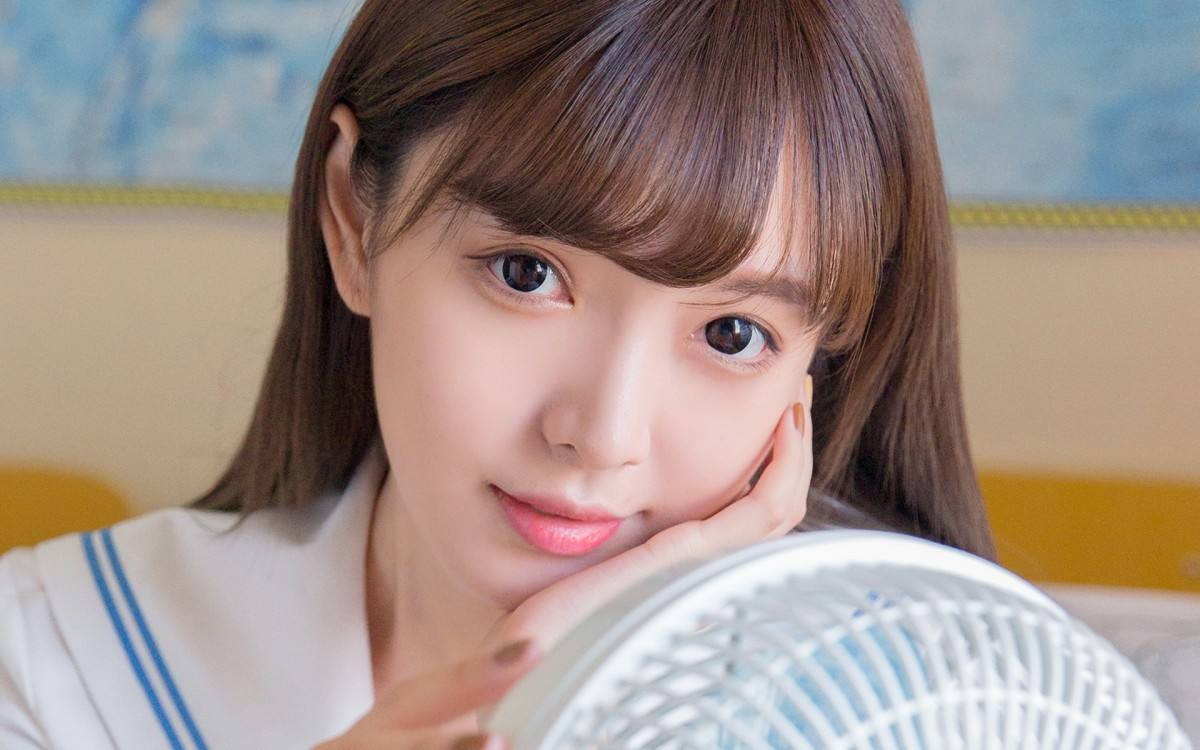person: (276, 8, 984, 618)
